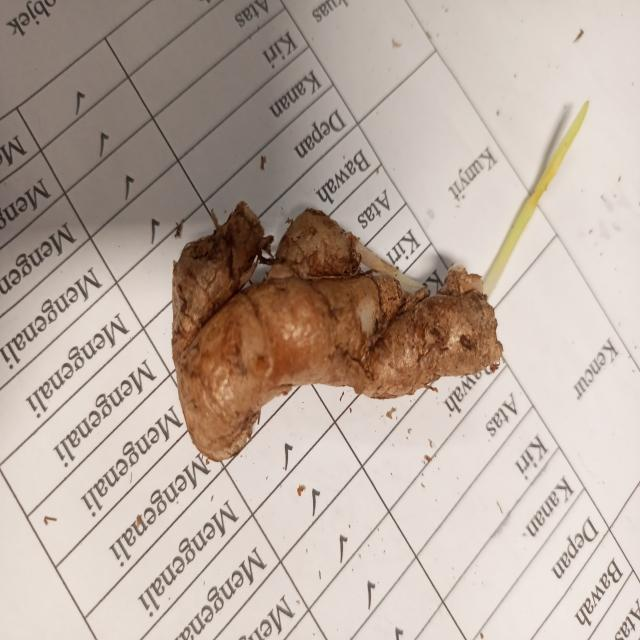ginger: (178, 204, 496, 450)
